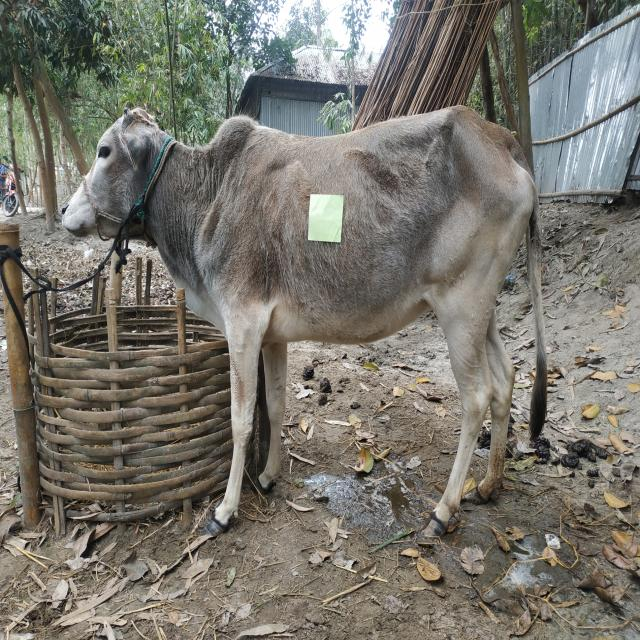badan_sapi: (228, 130, 506, 337)
sapi: (64, 98, 565, 543)
